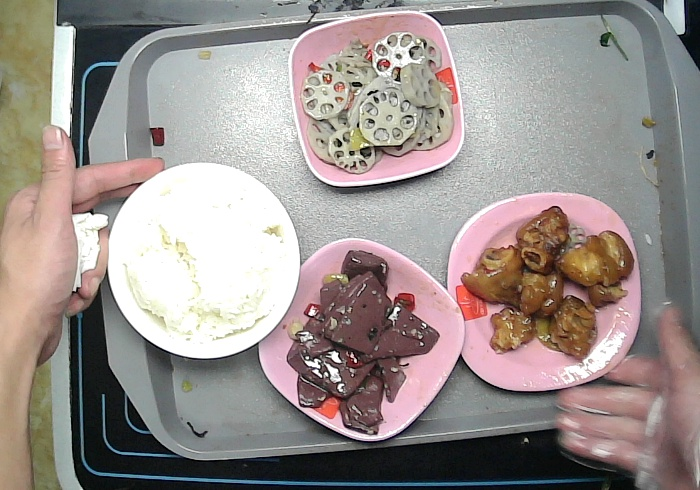SHKJ-Fan_Wan: (106, 160, 302, 359)
SHKJ-Fen_Se_Cai_Die: (256, 235, 467, 443)
SHKJ-Fen_Se_Si_Fang_Cai_Die: (445, 190, 643, 395)
SHKJ-Fen_Se_Xiao_Fang_Die: (286, 9, 467, 188)
